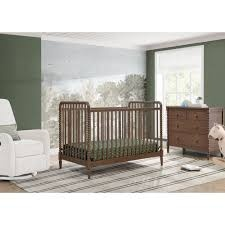crib: (59, 101, 162, 177)
